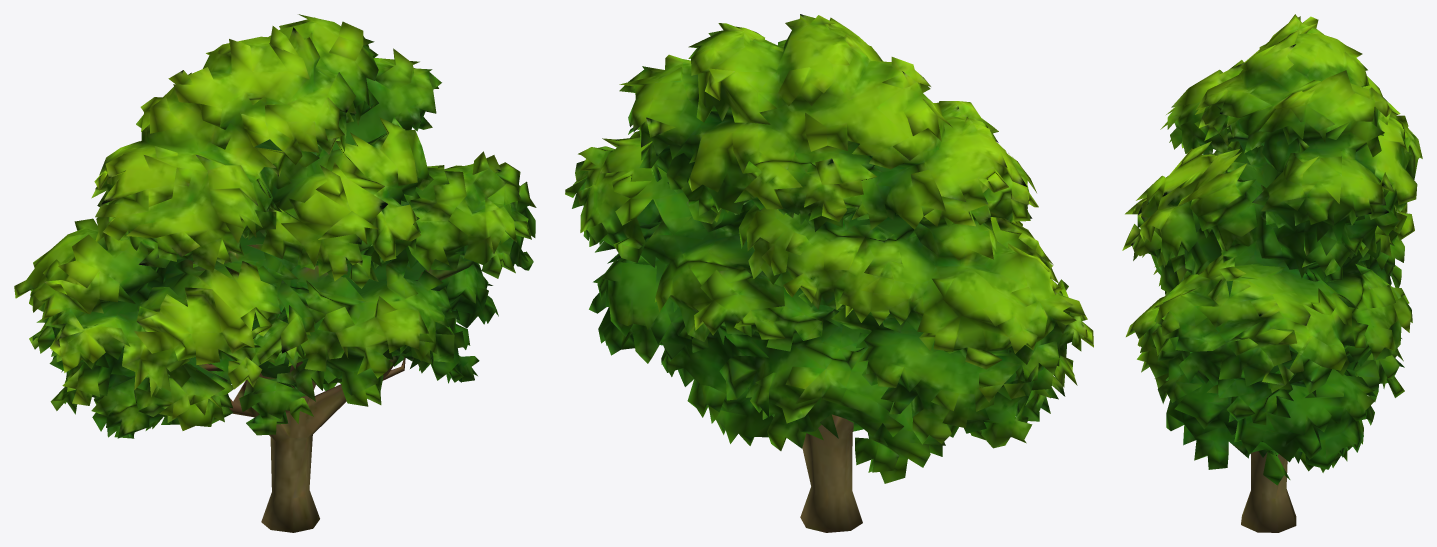
Rendered from tree.glb.
The picture shows the model from 3 angles, left to right: view 1: azimuth 30°, elevation 25°; view 2: azimuth 150°, elevation 25°; view 3: azimuth 270°, elevation 25°; orthographic projection. The views are drawn at different scales.
Visible parts, largest first — view 1: tripo_node_f0255020-1b20-42a1-a3cf-9511cd33a957; view 2: tripo_node_f0255020-1b20-42a1-a3cf-9511cd33a957; view 3: tripo_node_f0255020-1b20-42a1-a3cf-9511cd33a957.
Boxes of the visible parts, <box> form: tripo_node_f0255020-1b20-42a1-a3cf-9511cd33a957: <box>14,14,536,532</box>; tripo_node_f0255020-1b20-42a1-a3cf-9511cd33a957: <box>565,14,1093,532</box>; tripo_node_f0255020-1b20-42a1-a3cf-9511cd33a957: <box>1122,14,1422,532</box>.
Size of the model in its own units: 9.44 by 9 by 5.01.
Materials: 1 (1 with a texture image).
